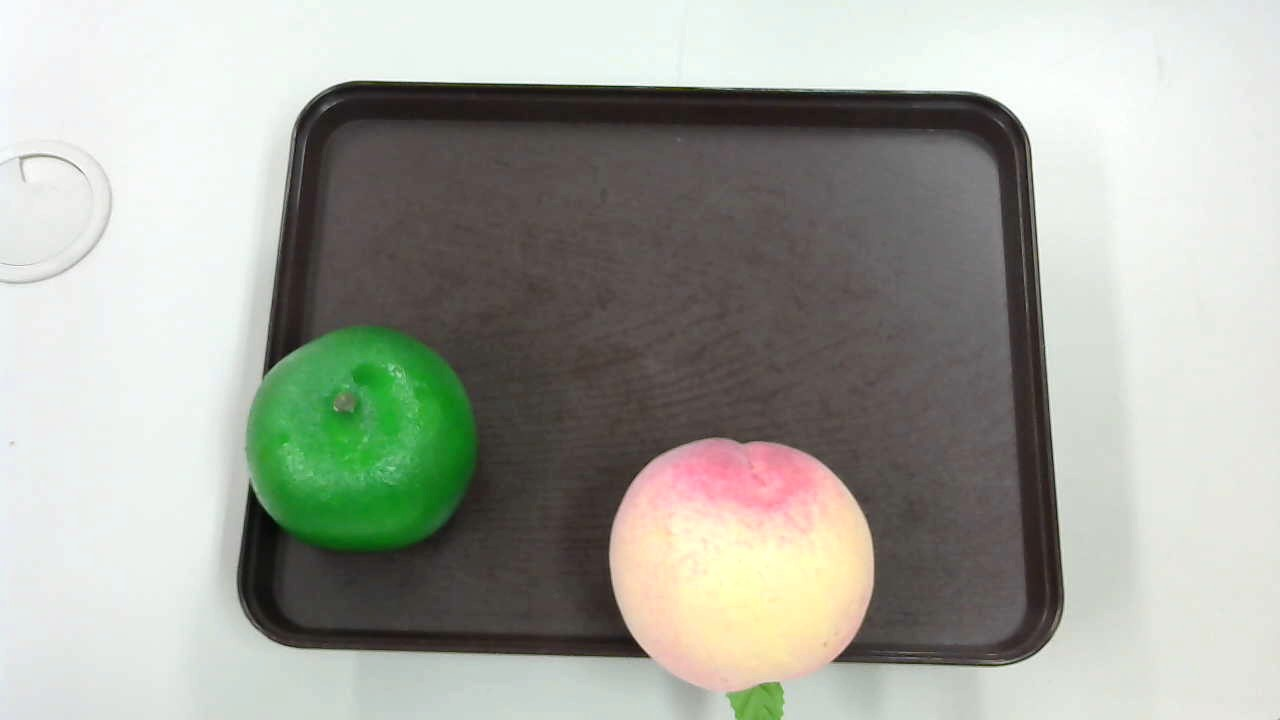green orange: (235, 320, 482, 558)
peach: (607, 430, 886, 720)
